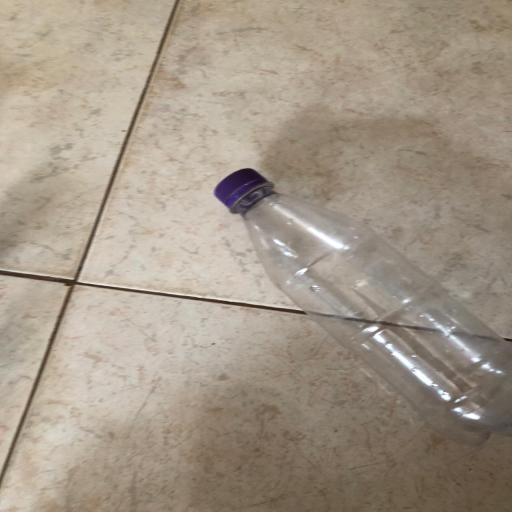waste: (205, 160, 512, 454)
